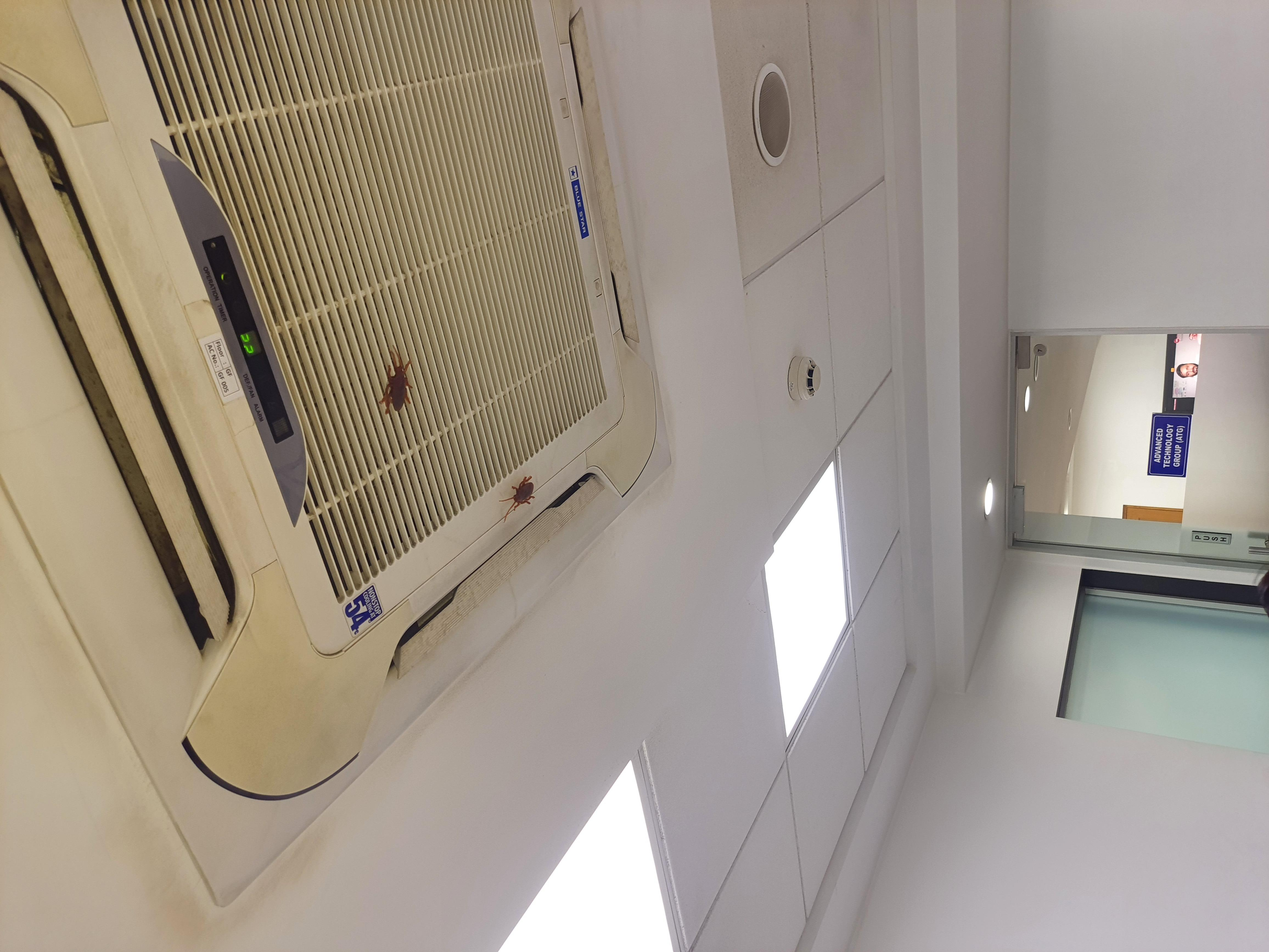cockroach: (698, 281, 811, 316), (562, 369, 642, 410)
